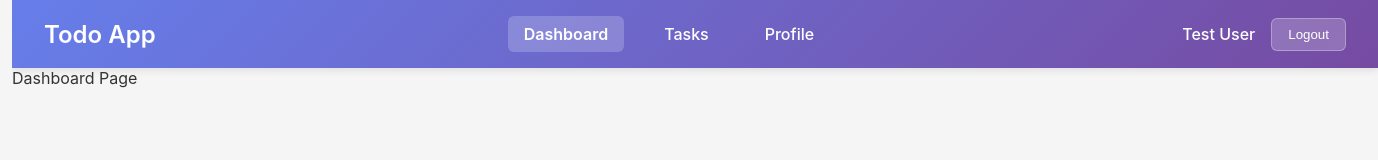
Test case: Navigation Flow Integration › clicking navigation links changes route
Expected: the text "Dashboard Page" is shown, [12,68,137,88]
What coordinates should you click on to do the following:
click the link "Tasks"
I would click on:
 (686, 34)
Its box is [664,24,709,44].
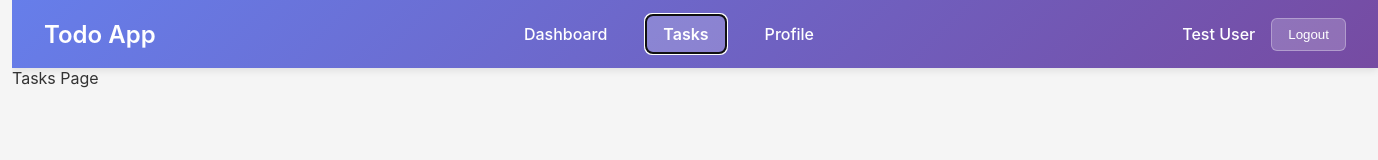
Expected: the text "Tasks Page" is shown, [12,68,99,88]
